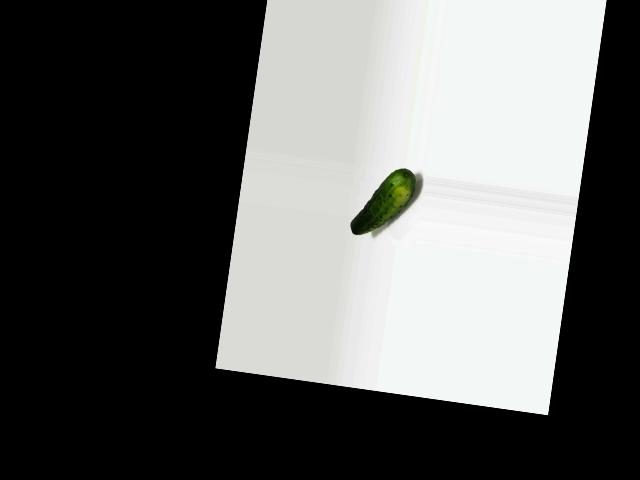cucumber: (349, 163, 416, 242)
